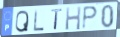0: (99, 4, 116, 30)
H: (65, 5, 82, 31)
L: (33, 8, 46, 32)
P: (81, 5, 99, 31)
Q: (14, 9, 30, 34)
T: (51, 8, 64, 31)
